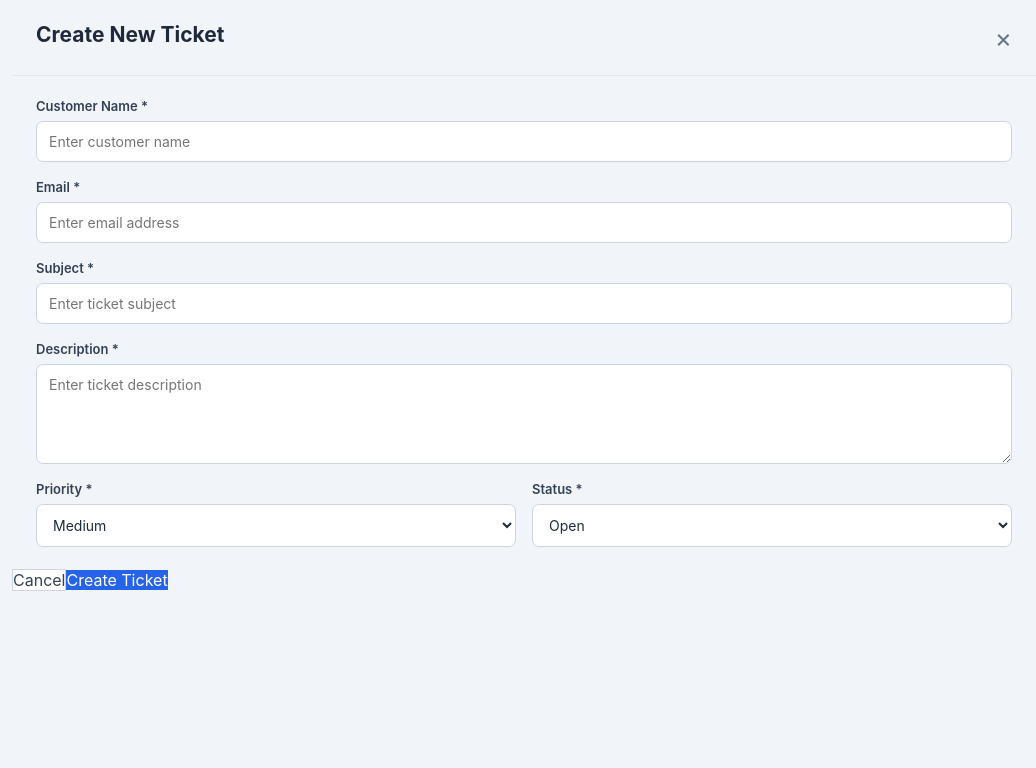
Test: TicketForm › shows an error for an invalid email
Type "John Smith" into the field with placeholder "Enter customer name".
click(524, 142); type("John Smith")  # box [36,121,1012,162]
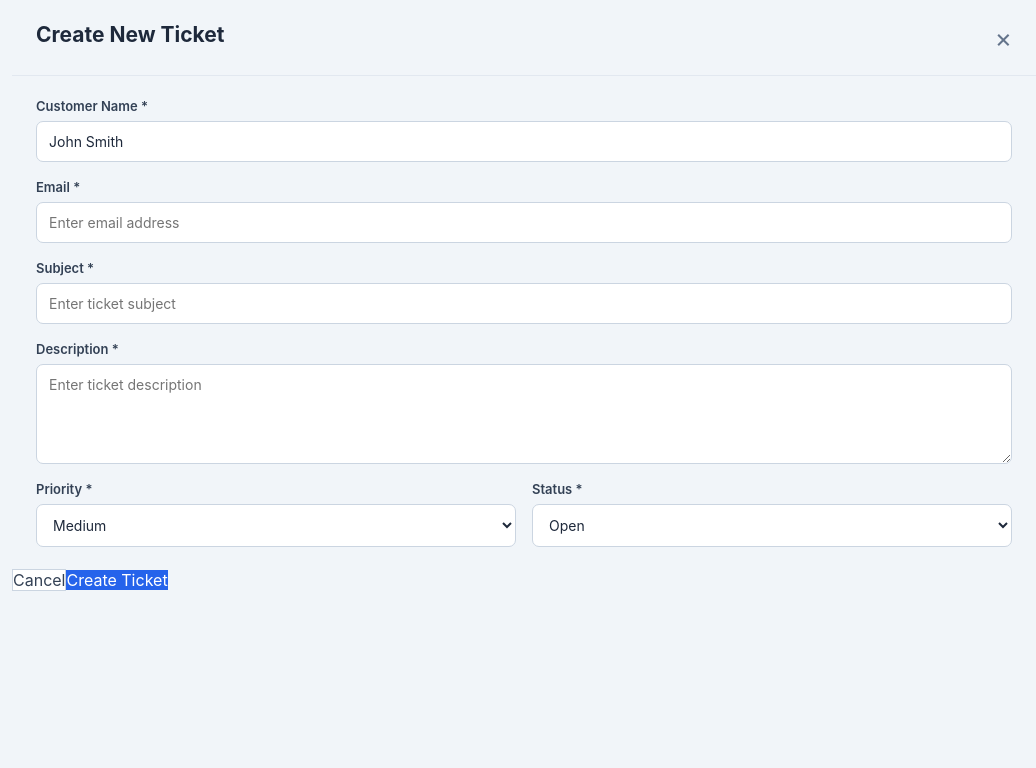
Type "john@example.com" into the field with placeholder "Enter email address".
click(524, 222); type("john@example.com")  # box [36,202,1012,243]
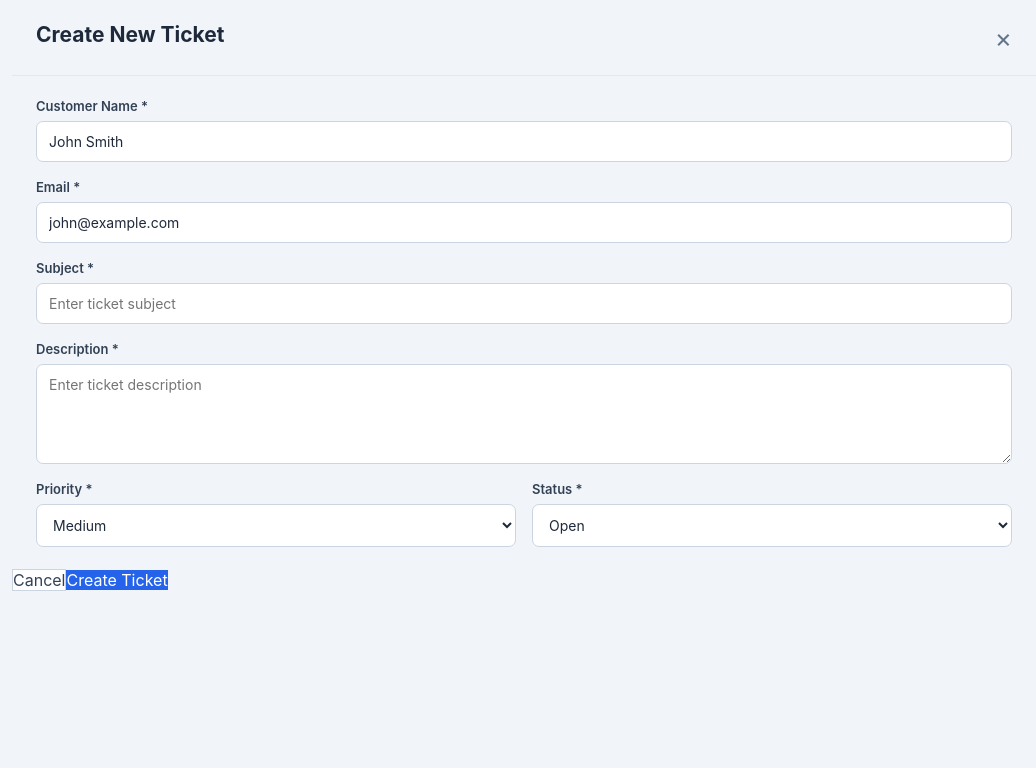
Type "Payment issue" into the field with placeholder "Enter ticket subject".
click(524, 304); type("Payment issue")  # box [36,283,1012,324]
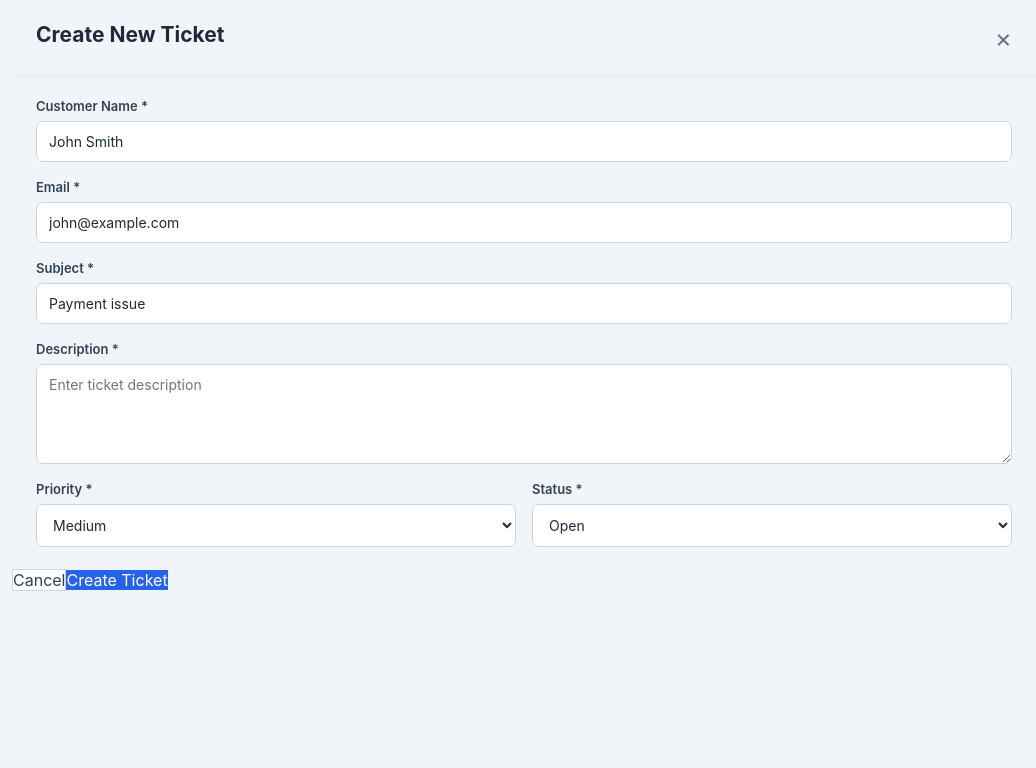
Type "Unable to complete the payment transaction" into the text box with placeholder "Enter ticket description".
click(524, 414); type("Unable to complete the payment transaction")  # box [36,364,1012,464]
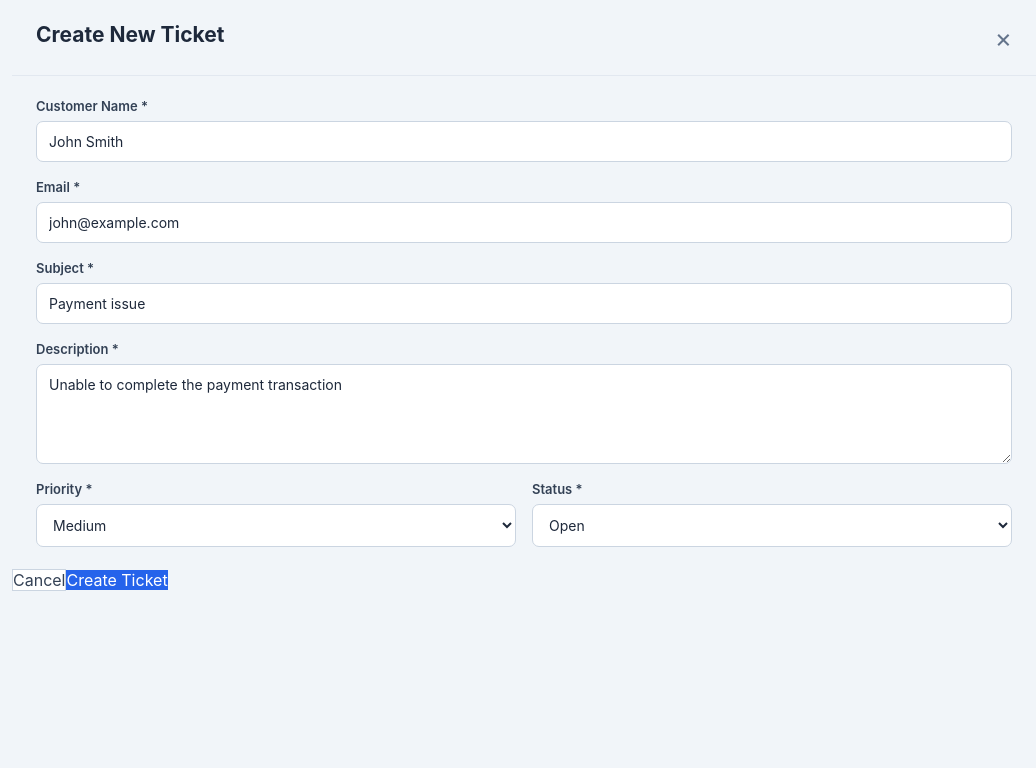
Replace the text in the field with placeholder "Enter email address" with "invalid-email" at (524, 222), box [36,202,1012,243]
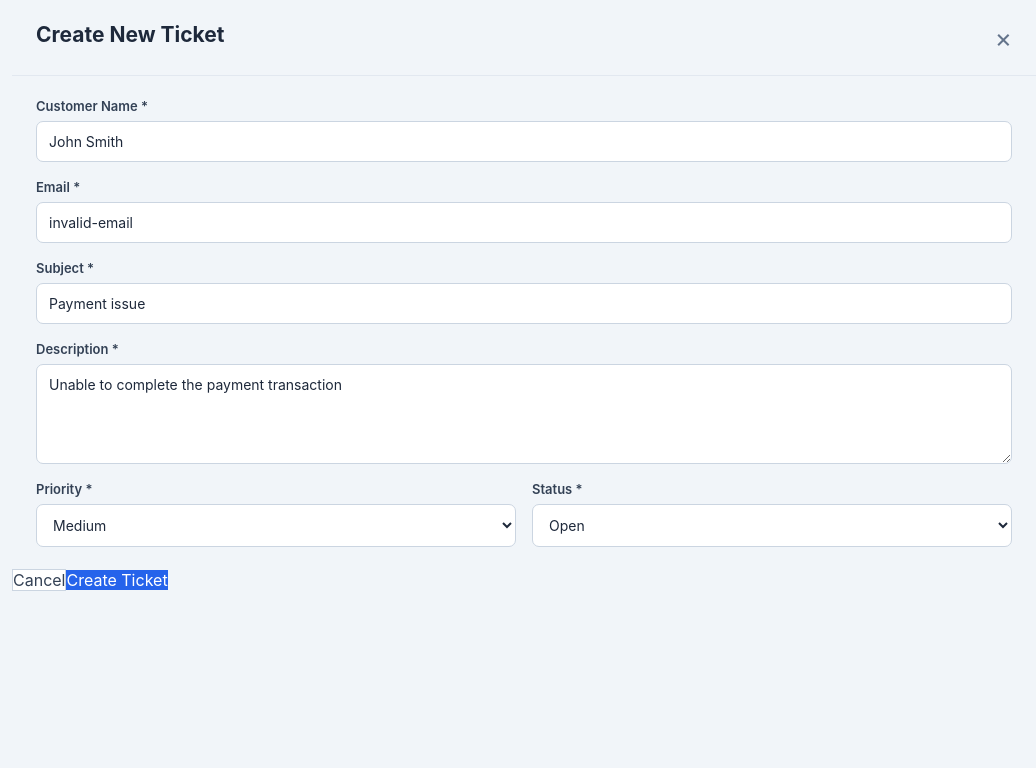
Click the button "Create Ticket".
click(117, 580)  # box [66,570,168,590]
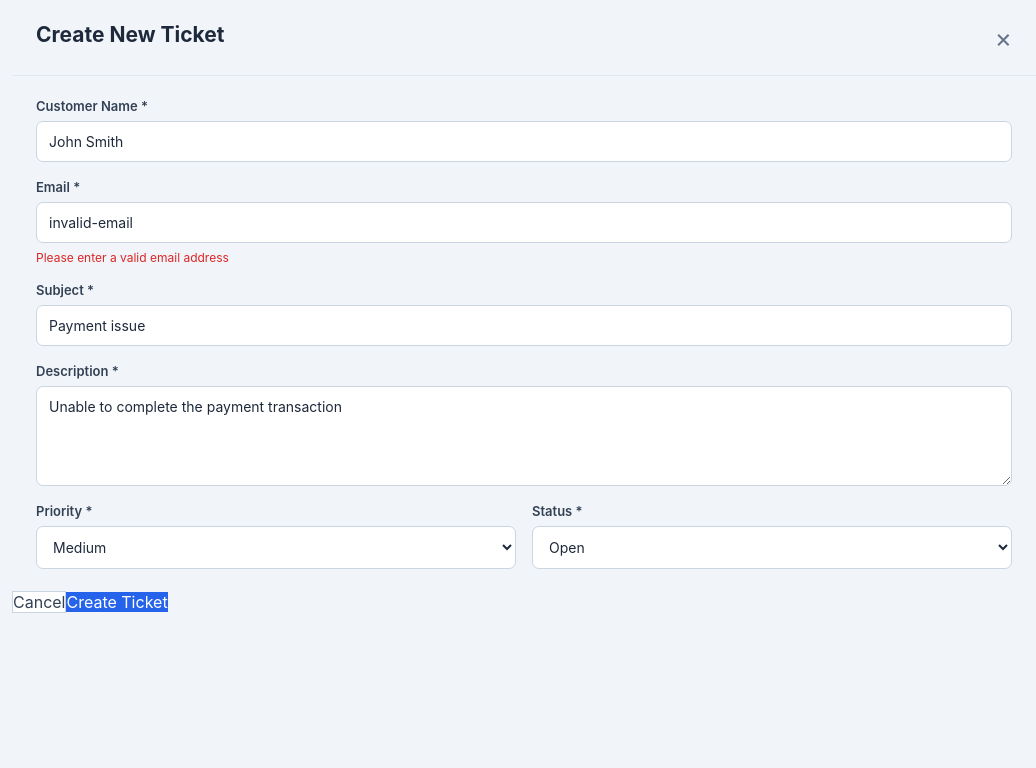
Expected: the text "Please enter a valid email address" is shown, [36,250,229,265]
